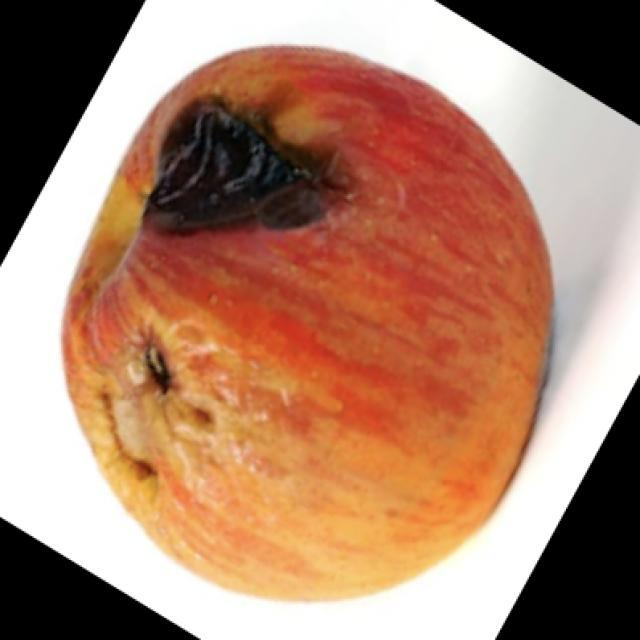Rotten: (86, 55, 542, 572)
